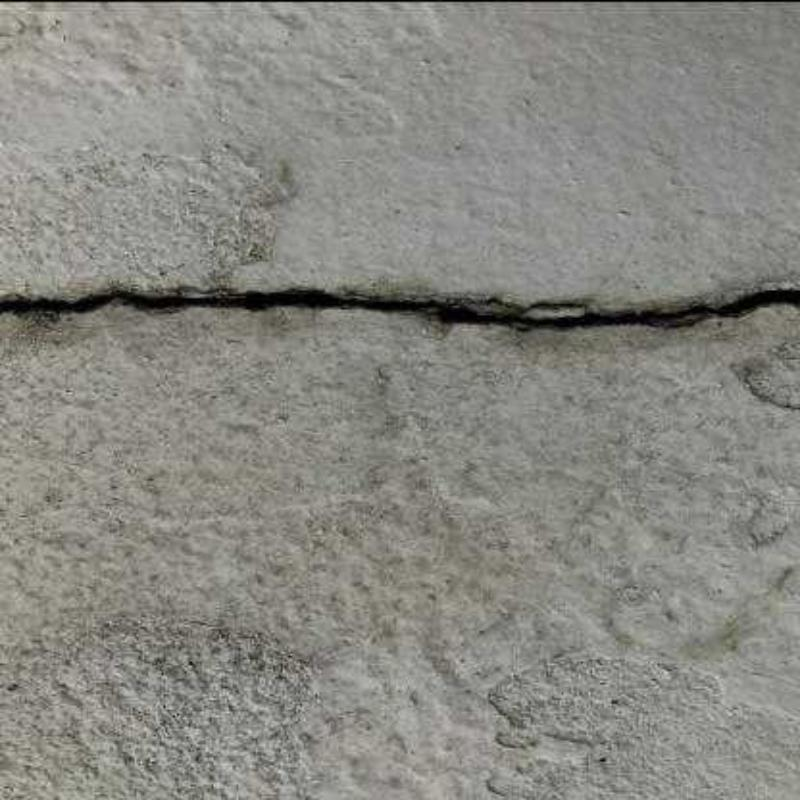pothole: (1, 288, 799, 330)
